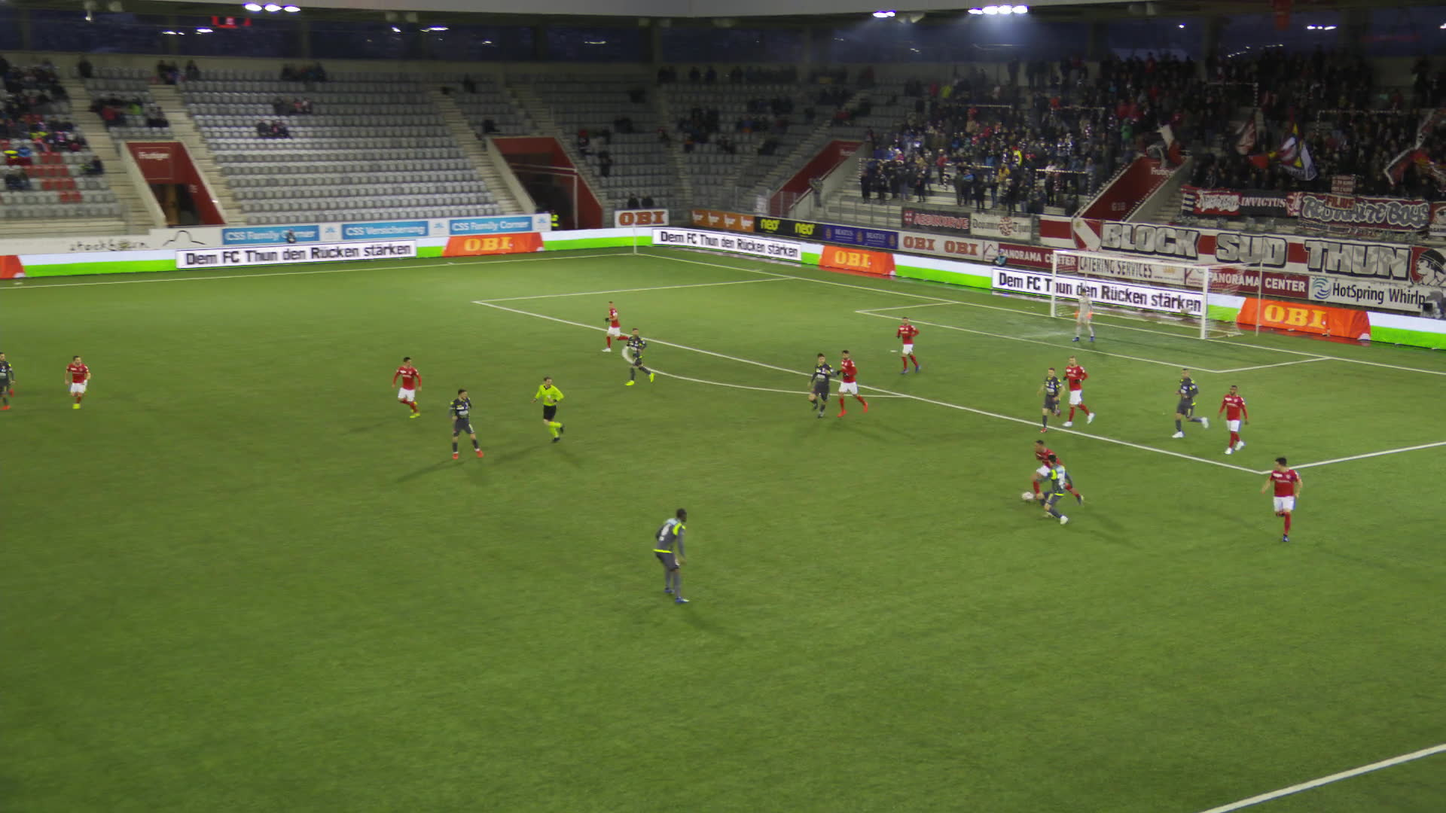ball: (1023, 490, 1036, 503)
player: (647, 504, 688, 604), (1258, 455, 1303, 541), (1029, 438, 1084, 507), (1034, 454, 1075, 528), (1170, 366, 1210, 440), (447, 387, 484, 461), (1060, 355, 1095, 428), (1213, 384, 1247, 455), (834, 349, 868, 418), (388, 355, 421, 421), (807, 352, 838, 419), (1035, 366, 1064, 434), (622, 327, 652, 387), (63, 354, 92, 410), (601, 301, 629, 353), (1067, 288, 1093, 343), (895, 317, 920, 374), (0, 354, 20, 405)
referee: (530, 376, 565, 443)
